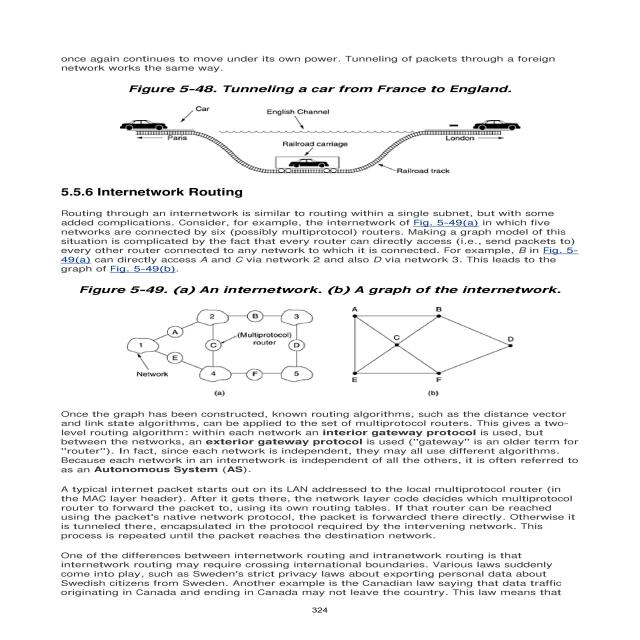diagram: (58, 283, 591, 400), (51, 79, 620, 185)
